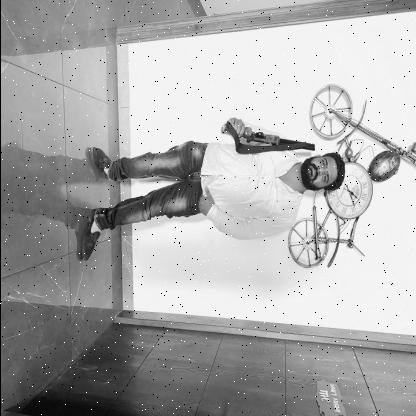rifle: (219, 122, 315, 154)
